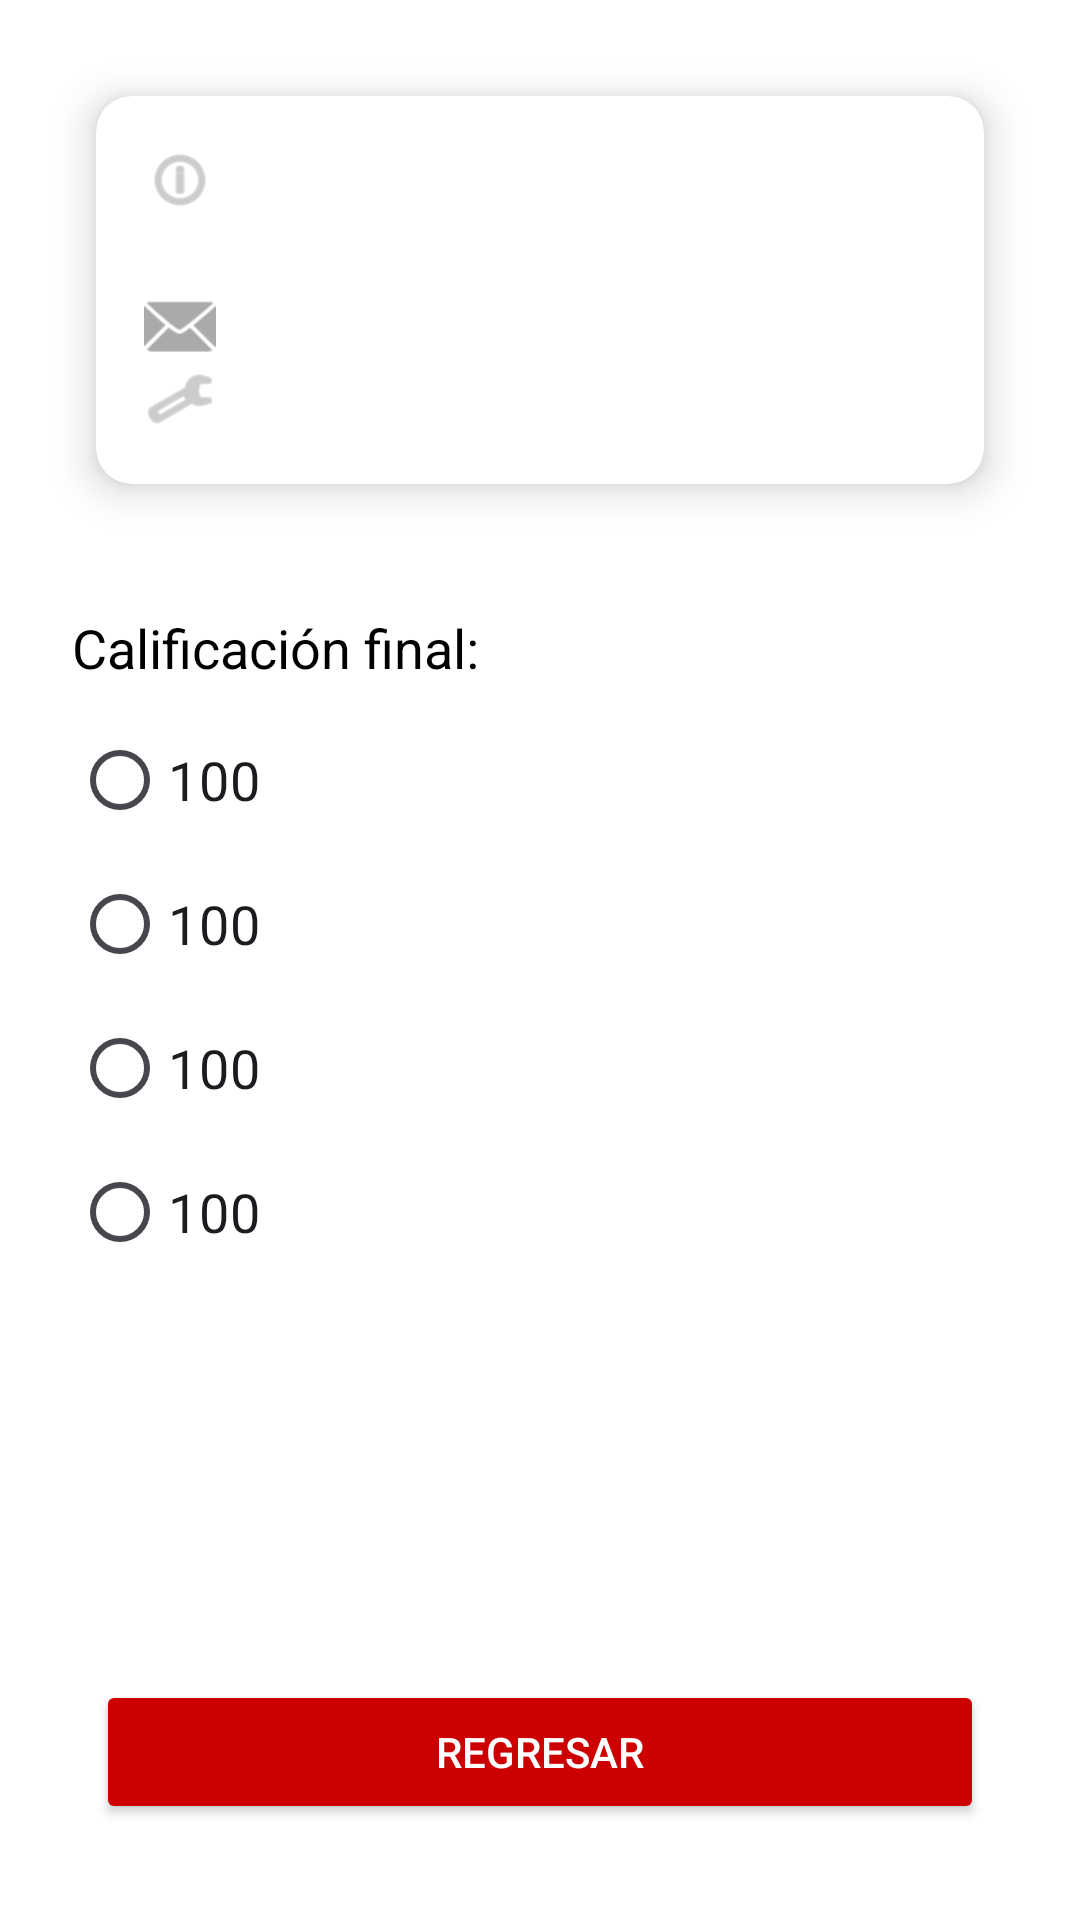

Named icons in this screenshot (1080px×1920px) and their centers, (x=x, y=y):
email: (x=180, y=327)
info details: (x=180, y=180)
preferences: (x=180, y=399)
